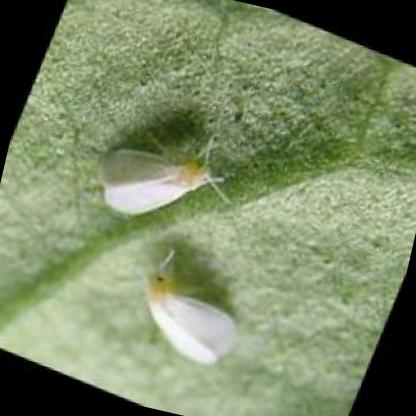whitefly: (142, 274, 240, 364), (92, 144, 207, 214)
